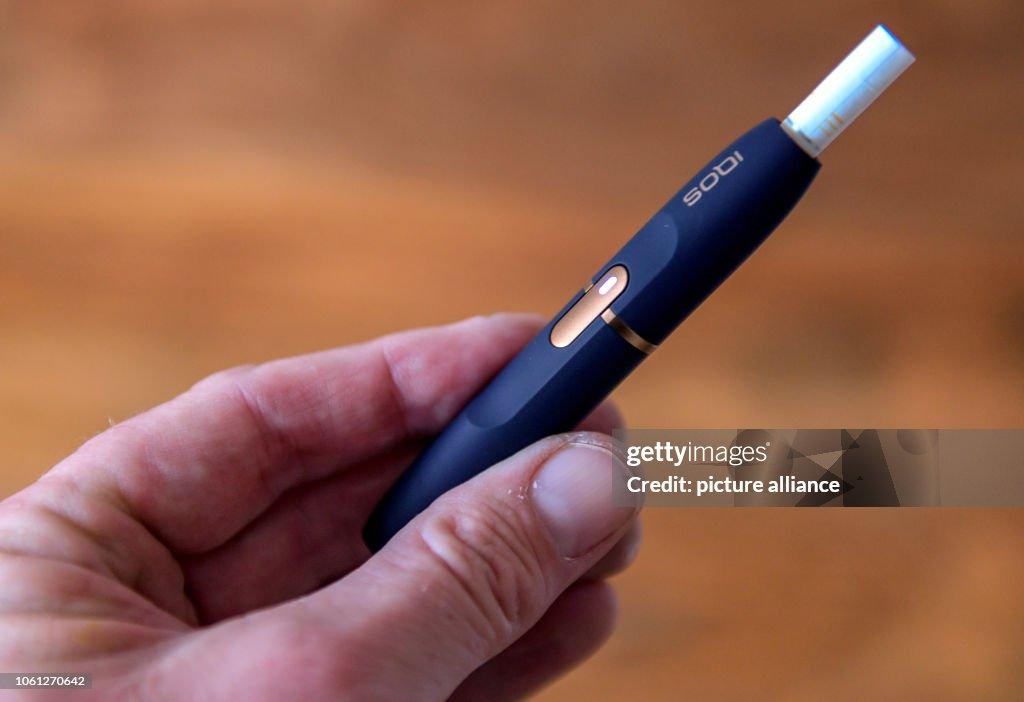iqos: (368, 26, 914, 548)
